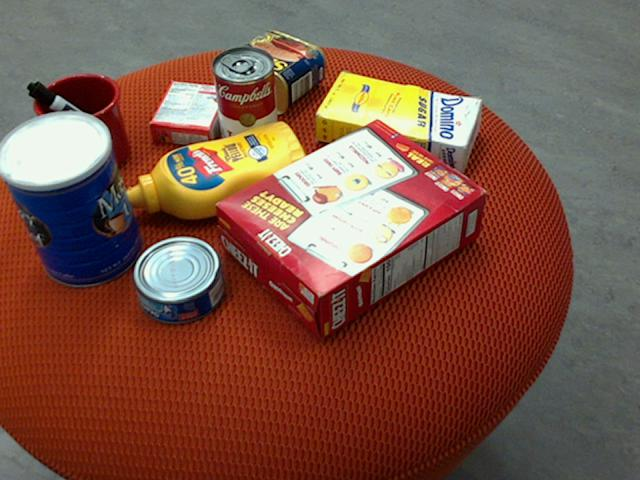cracker_box: (215, 118, 487, 338)
gelatin_box: (148, 79, 231, 146)
large_marker: (27, 80, 126, 153)
master_chef_can: (0, 110, 142, 287)
mug: (23, 73, 129, 175)
mustard_bottle: (122, 121, 311, 219)
potted_meat_can: (220, 30, 326, 114)
sugar_box: (315, 72, 484, 170)
tomato_soup_can: (212, 45, 278, 154)
tuna_fish_can: (132, 237, 226, 325)
